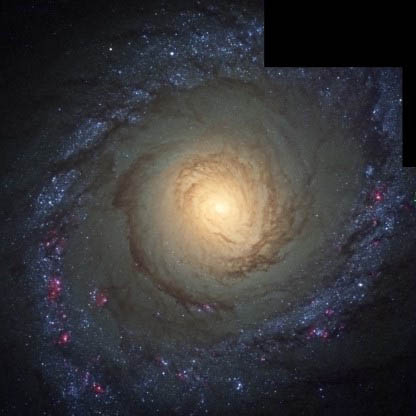Messier 94: (24, 21, 408, 407)
